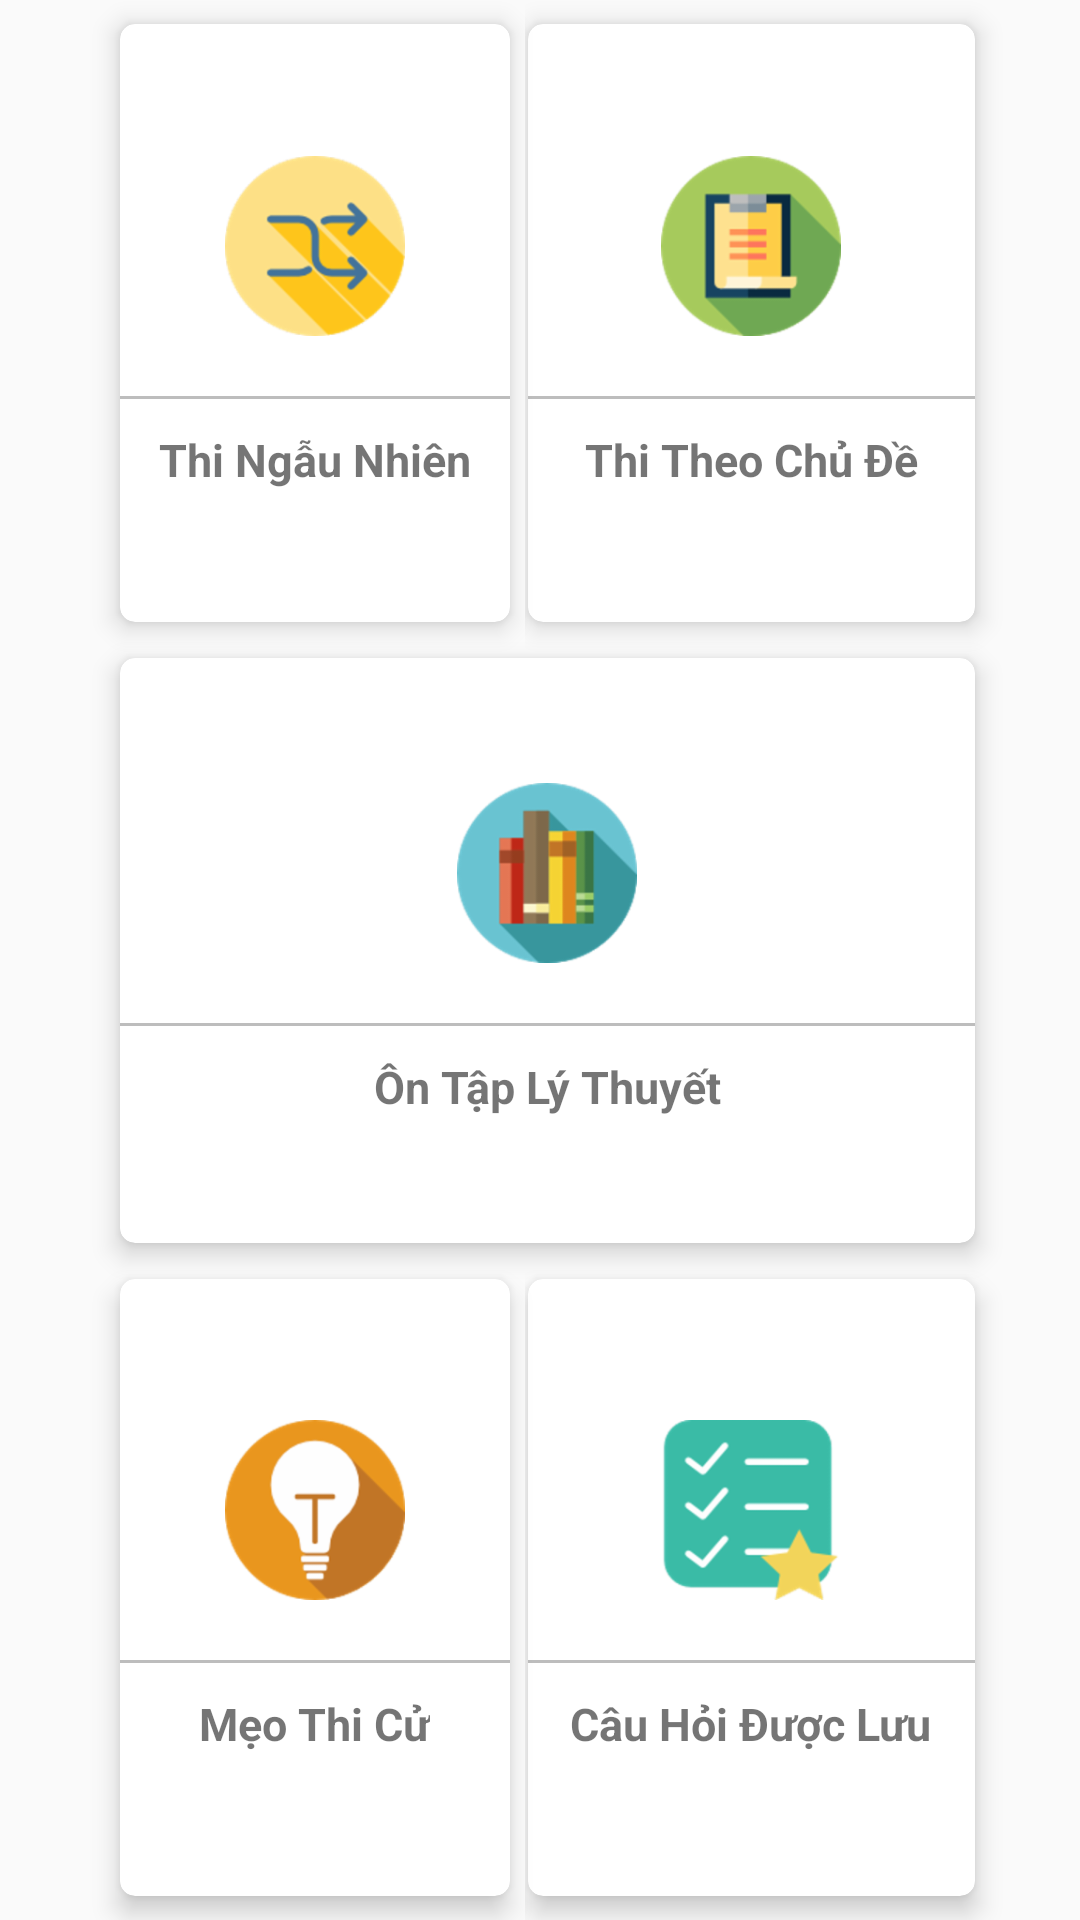

Named icons in this screenshot (1080w x 1920h) and their bounding boxes, (left=x1, top=y1, right=x2, bottom=y2):
library: (left=457, top=783, right=637, bottom=963)
list: (left=663, top=1420, right=838, bottom=1600)
shuffle: (left=225, top=156, right=405, bottom=336)
tips: (left=225, top=1420, right=405, bottom=1600)
